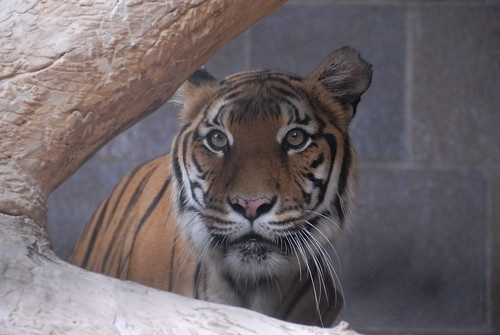tigre: (83, 51, 371, 324)
